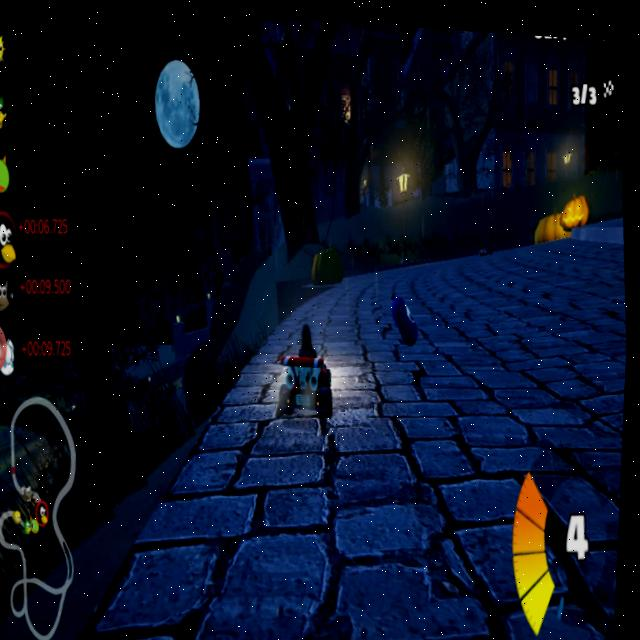nitro: (384, 283, 428, 341)
off_track: (63, 209, 286, 356)
player_kart: (273, 319, 347, 413)
track: (432, 234, 633, 423)
